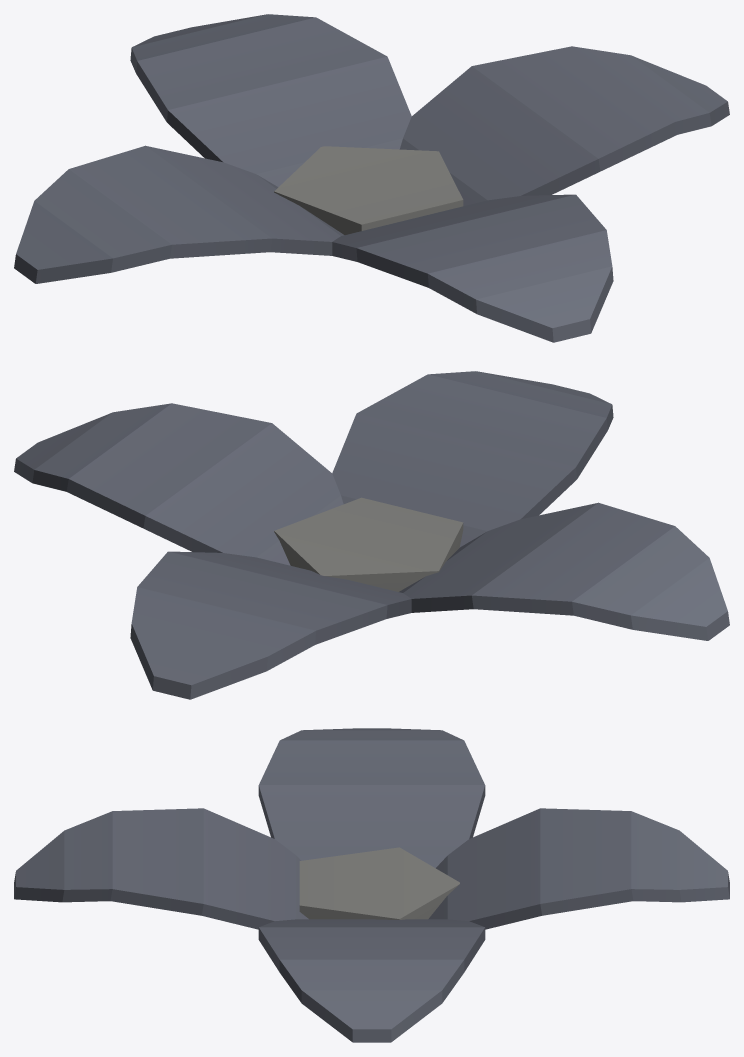
File: Flower_03.fbx
3 renders of one model, top to bottom at view 1: azimuth 30°, elevation 25°; view 2: azimuth 150°, elevation 25°; view 3: azimuth 270°, elevation 25°, orthographic. The views are drawn at different scales.
Visible parts, largest first — view 1: Flower_03; view 2: Flower_03; view 3: Flower_03.
Boxes of the visible parts, x1,y1,x2,y2 form: Flower_03: (14, 14, 729, 342); Flower_03: (14, 371, 729, 699); Flower_03: (14, 728, 729, 1042).
Bounding box in the file's own units: 0.2997 × 0.0355 × 0.2997.
